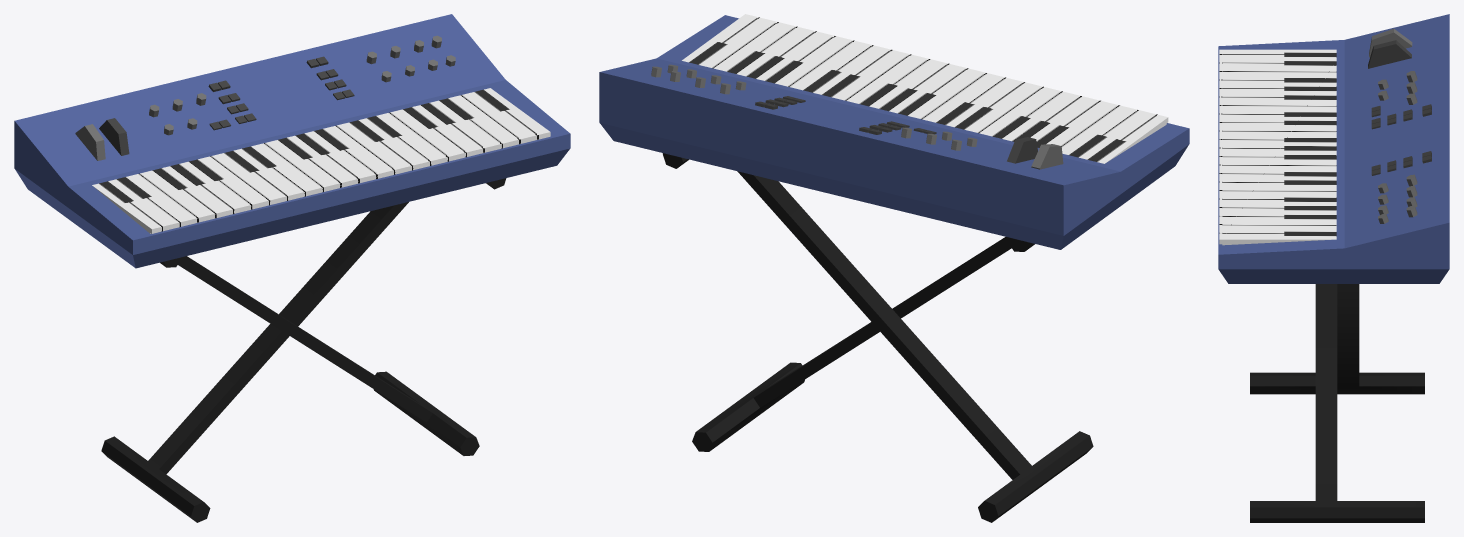
The model's file is Synthesizer.fbx.
The picture shows the model from 3 angles, left to right: view 1: azimuth 30°, elevation 25°; view 2: azimuth 150°, elevation 25°; view 3: azimuth 270°, elevation 25°; orthographic projection. The views are drawn at different scales.
Visible parts, largest first — view 1: Würfel, Keys, Zylinder, Zylinder_1, Zylinder_13, Zylinder_14; view 2: Würfel, Keys, Zylinder, Zylinder_1; view 3: Würfel, Keys, Zylinder_1, Zylinder, Zylinder_13, Zylinder_14.
Boxes of the visible parts, x1,y1,x2,y2 form: Würfel: (14,14,570,268); Keys: (92,88,550,233); Zylinder: (101,178,506,522); Zylinder_1: (160,256,479,455); Zylinder_13: (99,118,129,155); Zylinder_14: (75,124,105,160); Würfel: (599,15,1189,249); Keys: (682,14,1168,163); Zylinder: (662,153,1093,522); Zylinder_1: (692,237,1034,451); Würfel: (1218,14,1449,283); Keys: (1219,49,1336,245); Zylinder_1: (1250,284,1424,522); Zylinder: (1250,284,1424,394); Zylinder_13: (1368,40,1411,68); Zylinder_14: (1369,28,1412,57).
Bounding box in the file's own units: 139 × 107 × 65.16.
